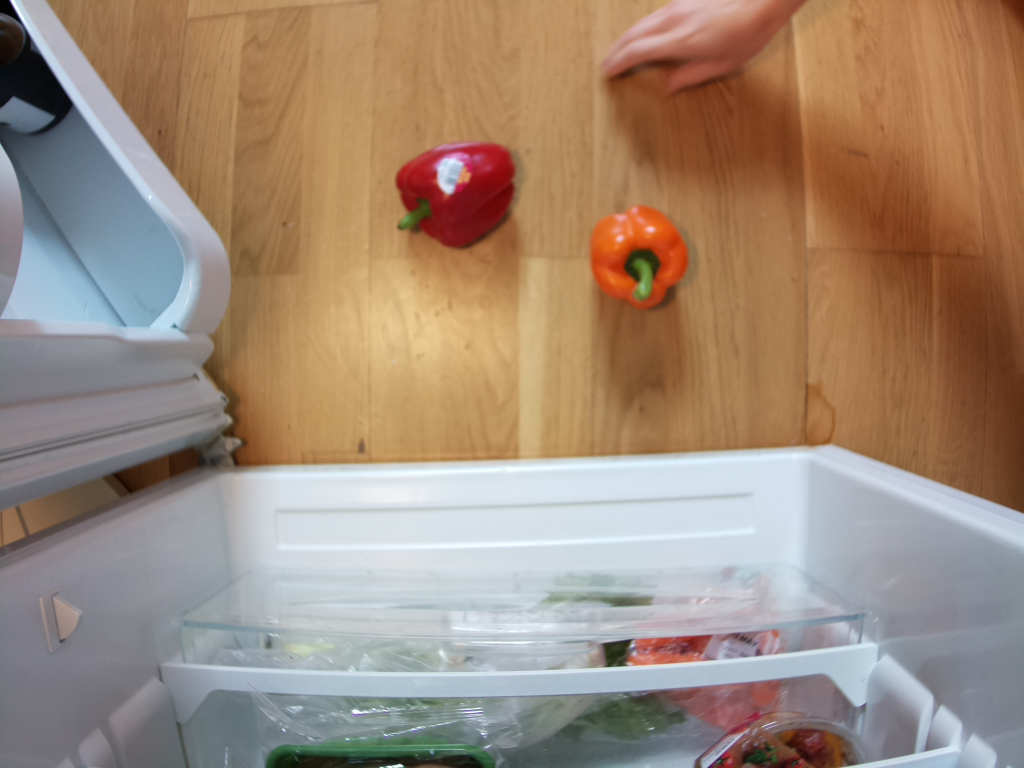pepper: (396, 145, 518, 249), (590, 204, 693, 314)
